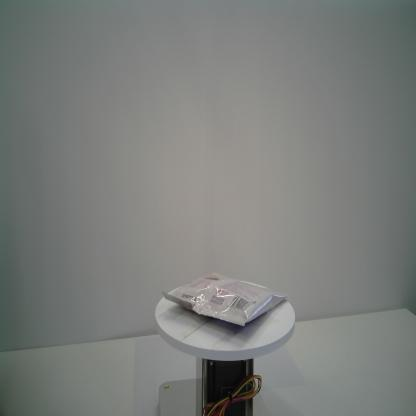Instant Drink: (161, 271, 289, 327)
